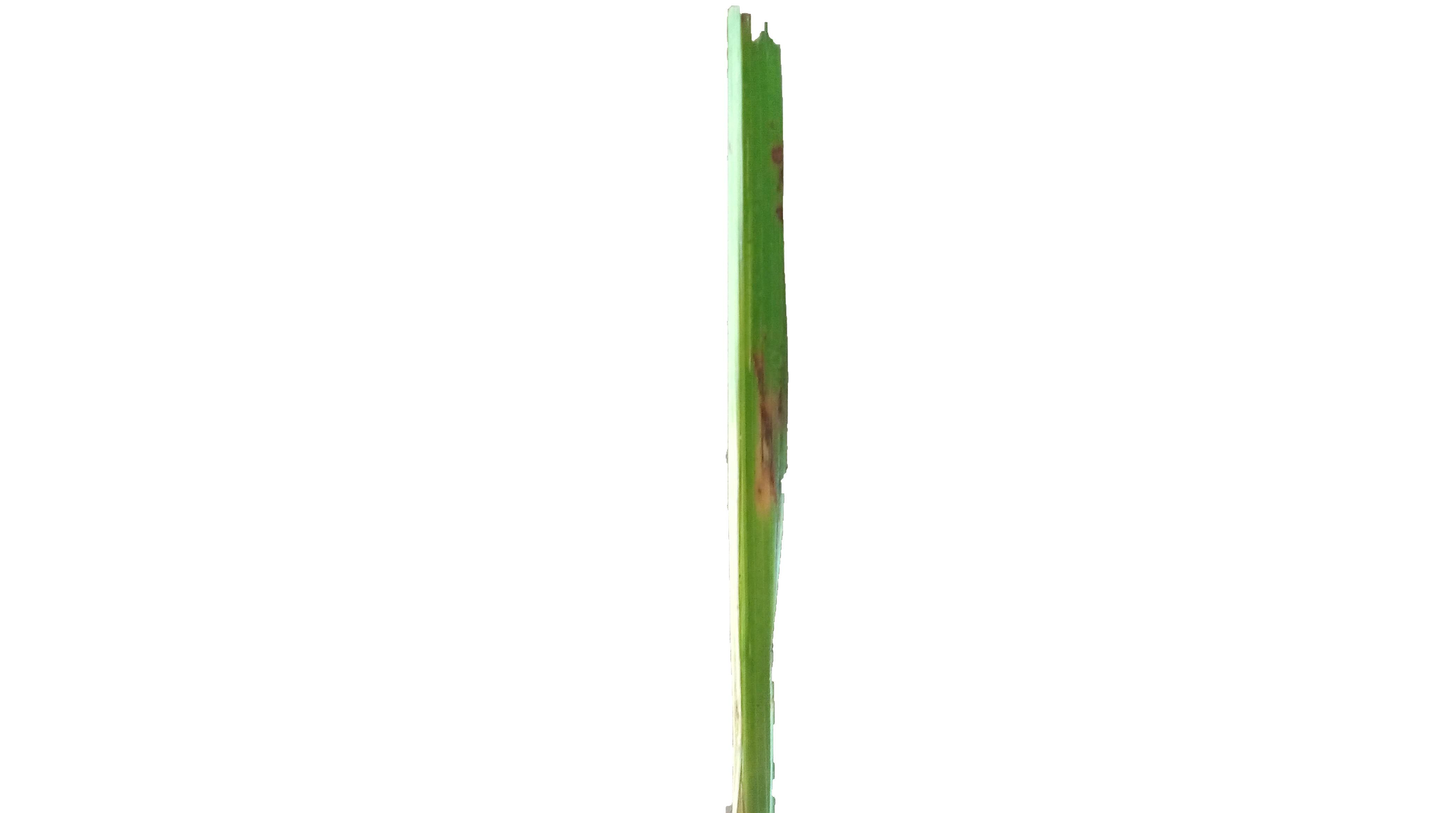Rice blast: (747, 344, 786, 525), (766, 138, 783, 226)
